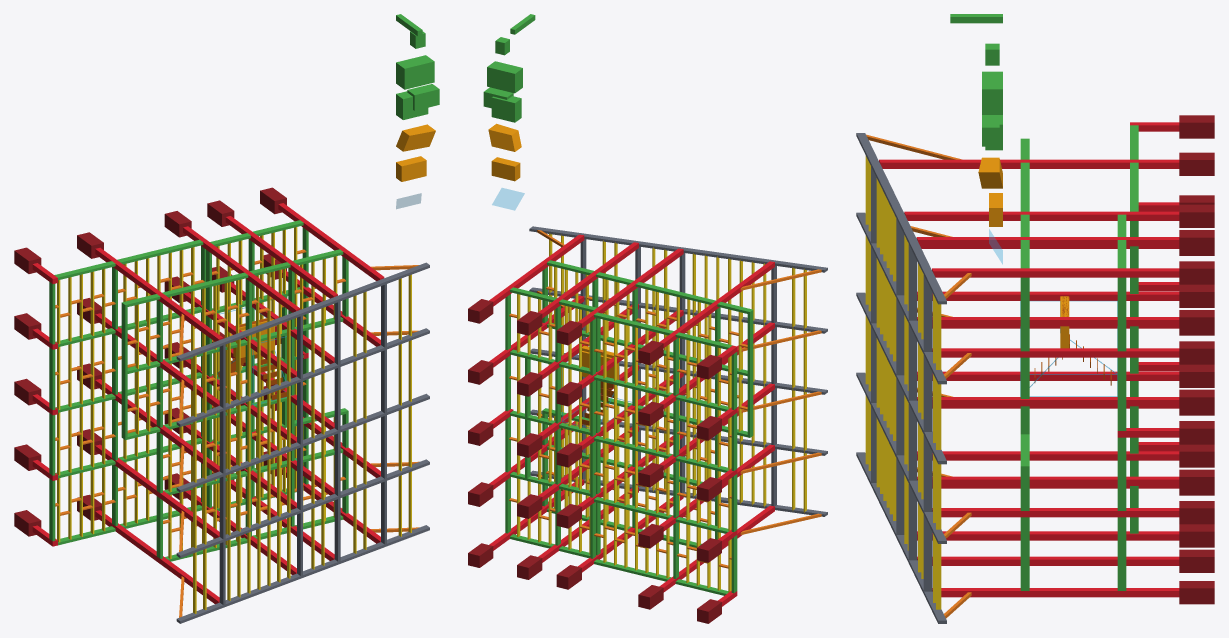
File: tinker.obj
3 renders of one model, left to right at view 1: azimuth 30°, elevation 25°; view 2: azimuth 150°, elevation 25°; view 3: azimuth 270°, elevation 25°, orthographic. The views are drawn at different scales.
Parts seen in each view (by area): view 1: obj_1, obj_420, obj_2, obj_20, obj_15, obj_3, obj_421, obj_4, obj_11, obj_6, obj_419, obj_7 (+9 smaller); view 2: obj_1, obj_420, obj_2, obj_421, obj_3, obj_4, obj_419, obj_20, obj_15, obj_7, obj_21, obj_12 (+11 smaller); view 3: obj_1, obj_2, obj_3, obj_4, obj_9, obj_18, obj_23, obj_13, obj_17, obj_22, obj_8, obj_16 (+54 smaller).
Part boxes in pixels (x1,y1,x2,y2): obj_1: (95, 247, 222, 341); obj_420: (396, 84, 439, 119); obj_2: (183, 226, 300, 312); obj_20: (95, 510, 219, 603); obj_15: (95, 444, 219, 538); obj_3: (225, 216, 337, 298); obj_421: (396, 55, 434, 89); obj_4: (278, 203, 384, 280); obj_11: (95, 379, 219, 472); obj_6: (95, 313, 219, 407); obj_419: (396, 124, 435, 151); obj_7: (183, 292, 296, 378); obj_1: (659, 261, 774, 347); obj_420: (483, 87, 521, 122); obj_2: (578, 248, 683, 327); obj_421: (487, 61, 522, 93); obj_3: (538, 242, 638, 318); obj_4: (489, 234, 584, 306); obj_419: (488, 123, 521, 151); obj_20: (659, 505, 774, 592); obj_15: (659, 444, 774, 531); obj_7: (578, 310, 683, 389); obj_21: (578, 496, 683, 572); obj_12: (578, 372, 683, 450); obj_1: (879, 159, 1179, 168); obj_2: (904, 211, 1179, 220); obj_3: (916, 237, 1179, 246); obj_4: (932, 268, 1179, 277); obj_9: (932, 348, 1179, 357); obj_18: (932, 508, 1179, 517); obj_23: (932, 588, 1179, 597); obj_13: (917, 397, 1179, 406); obj_17: (917, 476, 1179, 485); obj_22: (917, 556, 1179, 565); obj_8: (917, 317, 1179, 326); obj_16: (917, 451, 1179, 460).
Bounding box in the file's own units: 132 × 192 × 102.
